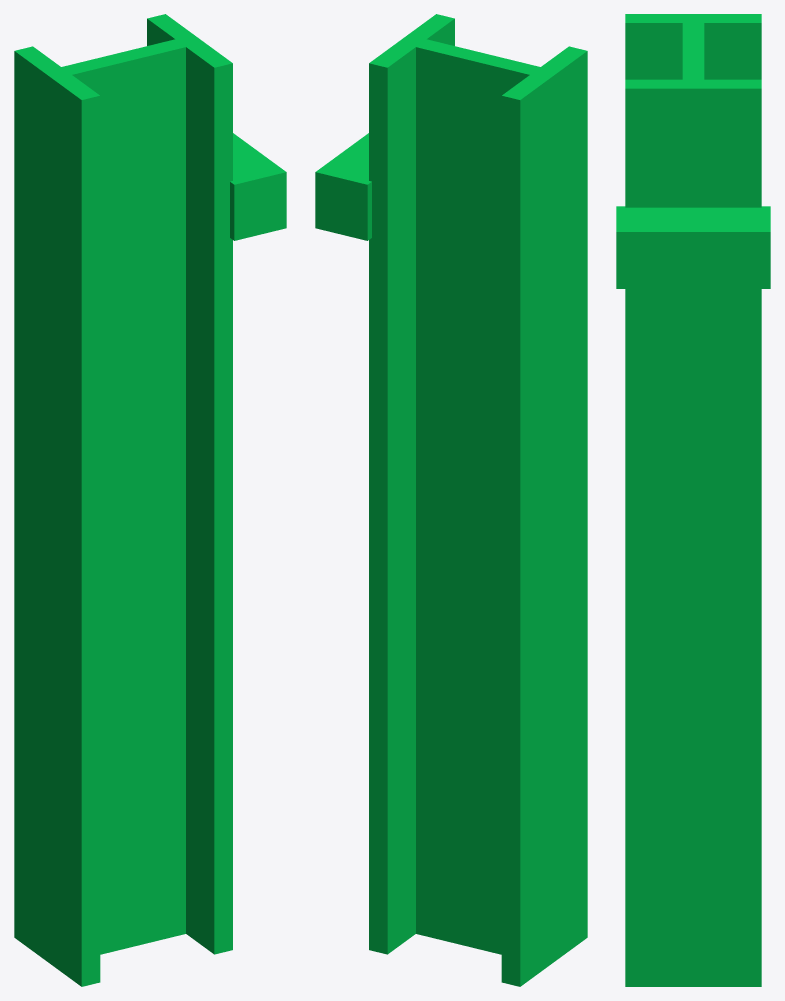
The picture shows the model from 3 angles, left to right: view 1: azimuth 30°, elevation 25°; view 2: azimuth 150°, elevation 25°; view 3: azimuth 270°, elevation 25°; orthographic projection.
Visible parts, largest first — view 1: Stand_D_LOD0; view 2: Stand_D_LOD0; view 3: Stand_D_LOD0.
Part boxes in pixels (left/top/right/bottom): Stand_D_LOD0: left=14, top=14, right=286, bottom=986; Stand_D_LOD0: left=315, top=14, right=587, bottom=986; Stand_D_LOD0: left=616, top=14, right=770, bottom=986.
Size of the model in its own units: 23.73 by 15.63 by 100.
